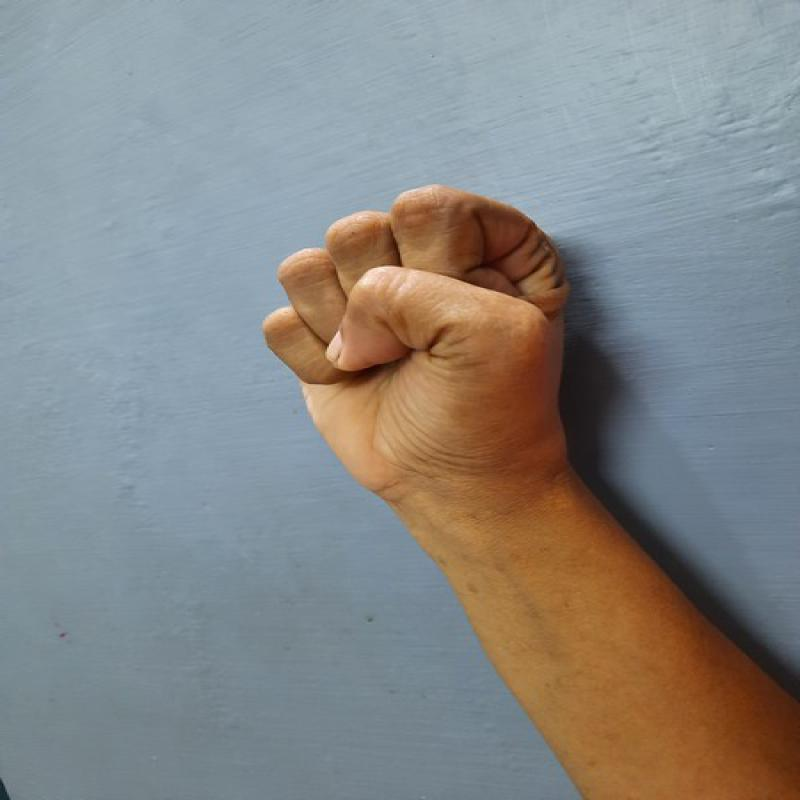Mushti: (254, 176, 590, 502)
